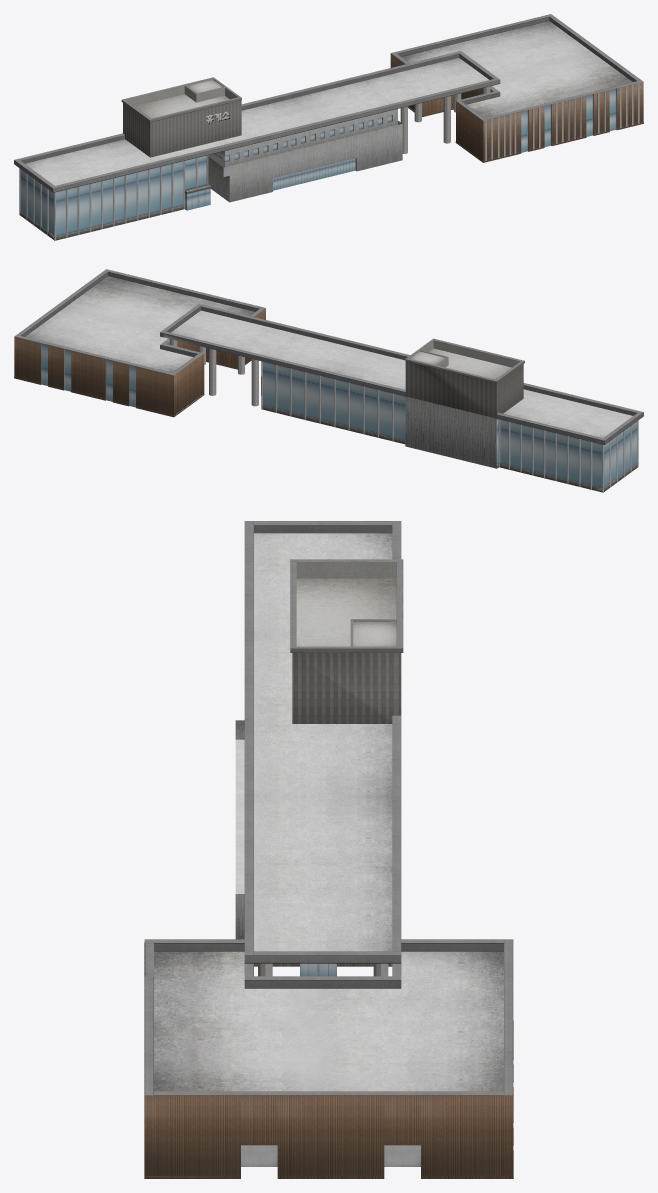
3 renders of one model, top to bottom at view 1: azimuth 30°, elevation 25°; view 2: azimuth 150°, elevation 25°; view 3: azimuth 270°, elevation 25°, orthographic. The views are drawn at different scales.
Parts seen in each view (by area): view 1: MainBuilding; view 2: MainBuilding; view 3: MainBuilding.
Part boxes in pixels (box(x1,y1,x2,y2)): MainBuilding: box(14, 14, 643, 240); MainBuilding: box(14, 269, 643, 492); MainBuilding: box(144, 521, 513, 1178).
Size of the model in its own units: 1.41 by 0.21 by 0.401.
Materials: 1 (1 with a texture image).
